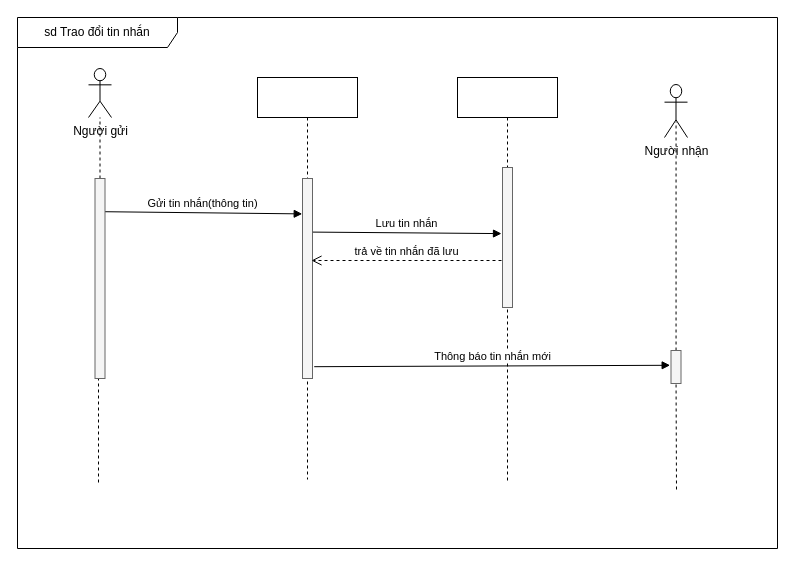
Image size: 795x566. Some labels were removed from this diagram. The box of each missing label's shape, as (x1, y1, x2, y2) in pixels:
:ChatHub: (256, 76, 358, 480)
:Database: (456, 76, 558, 482)
